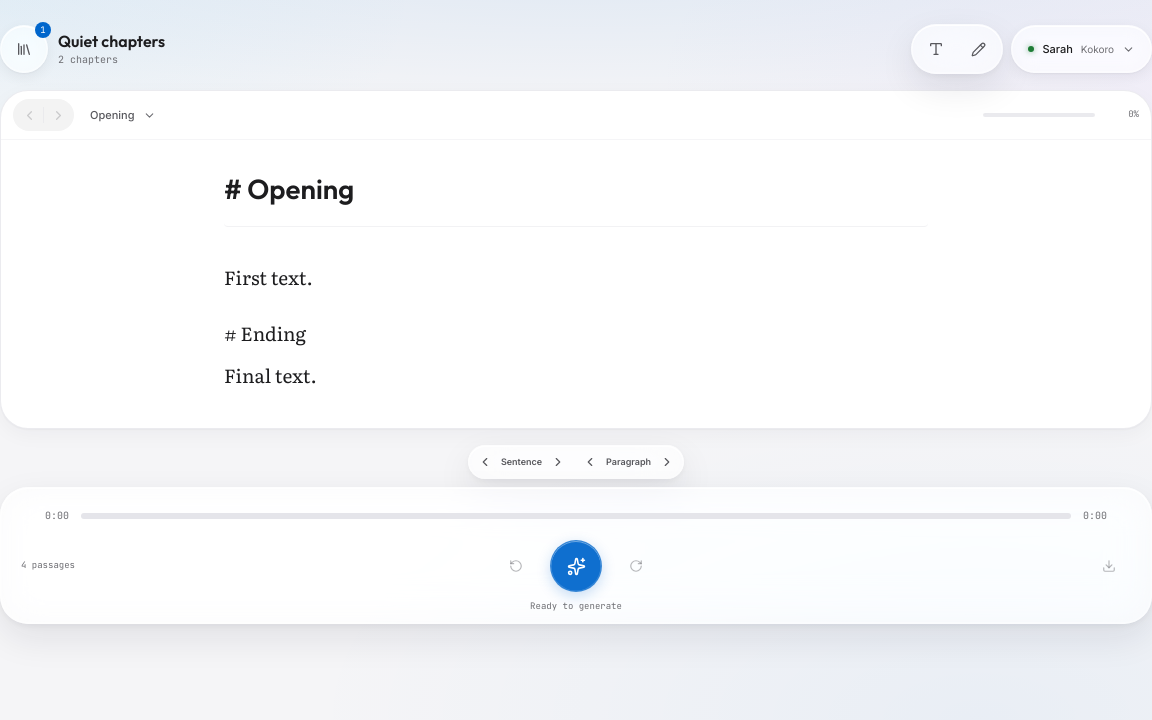
Scenario: AdvancedReaderPage › updates the visible chapter when navigating a document before audio exists
Step 1. Click the button named "Open Reader library" → click(24, 49), box left=0, top=25, right=48, bottom=73
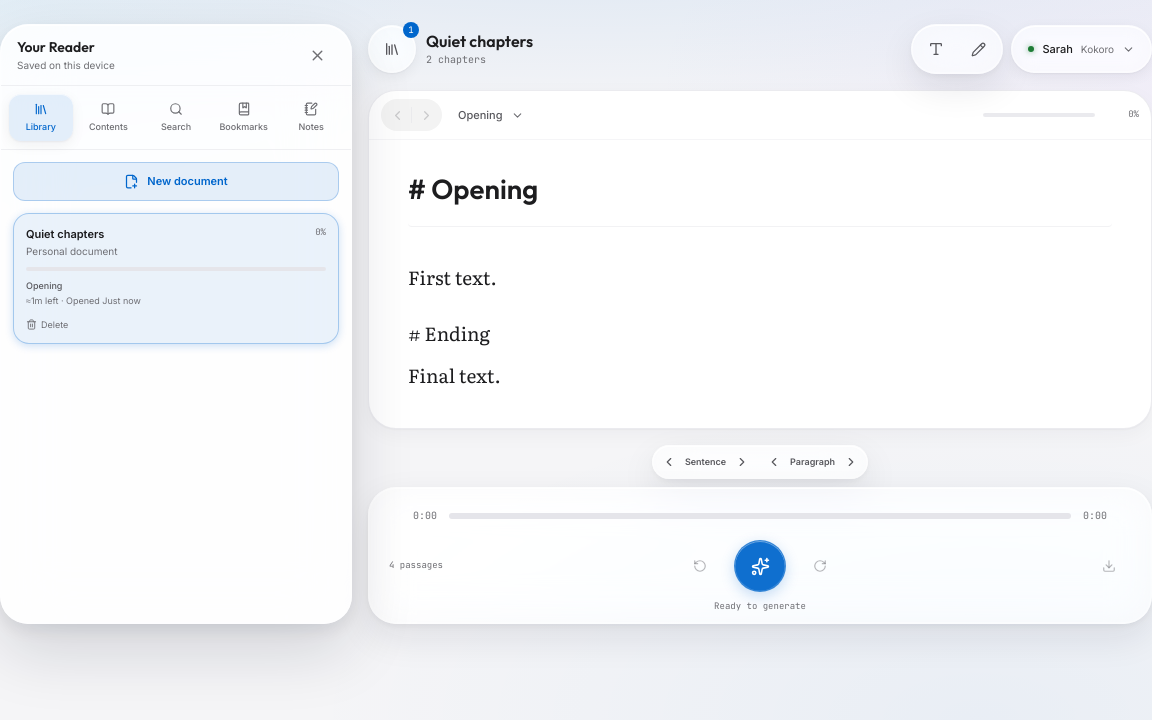
Step 2. Click the tab "Contents" → click(108, 118), box left=77, top=94, right=140, bottom=141
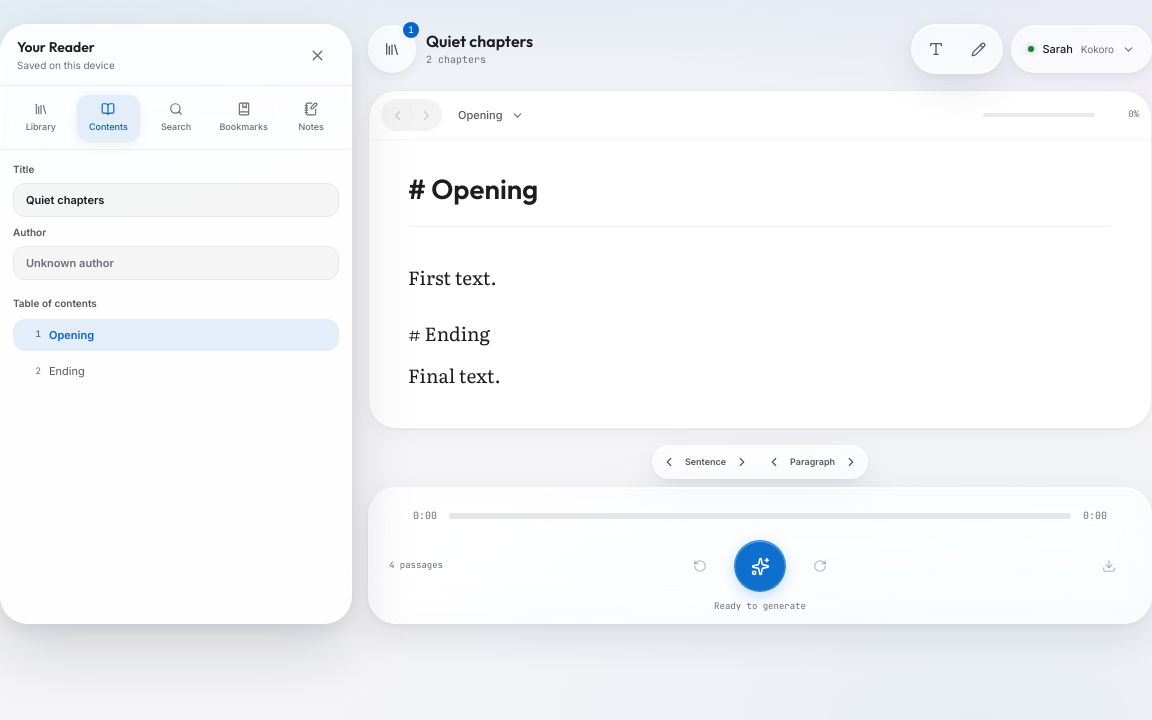
Step 3. Click the button "2 Ending" → click(67, 371), box left=13, top=355, right=339, bottom=388
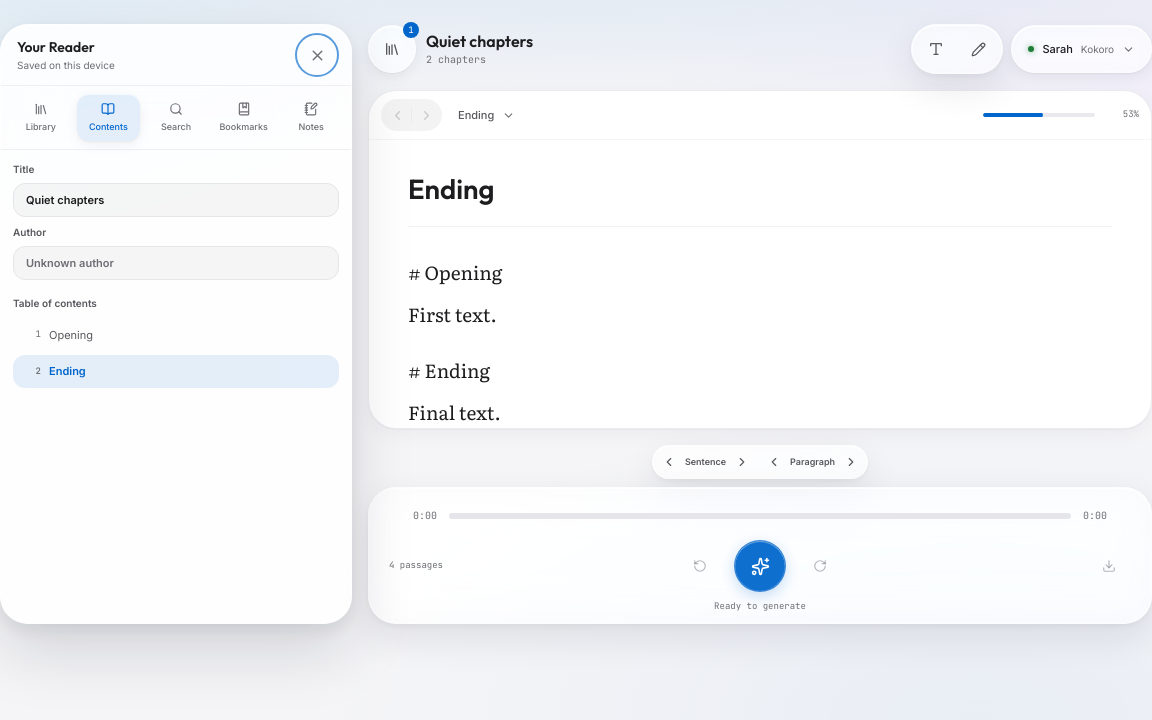
Check: the button with aria-label "Contents · Chapter 2 of 2: Ending" is shown, box left=450, top=103, right=523, bottom=127
